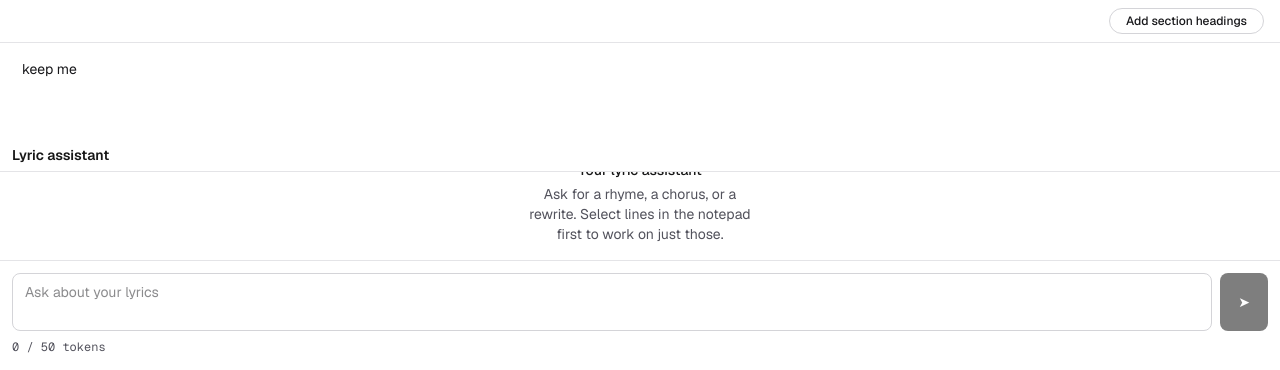
Test: lyric chat › keeps the typed message and leaves conversation and lyrics alone when a request fails
This screenshot has width=1280, height=370.
(page scrolled)
Type "help" into the text box named "Message the lyric assistant" at (612, 302), box [12, 273, 1212, 331]
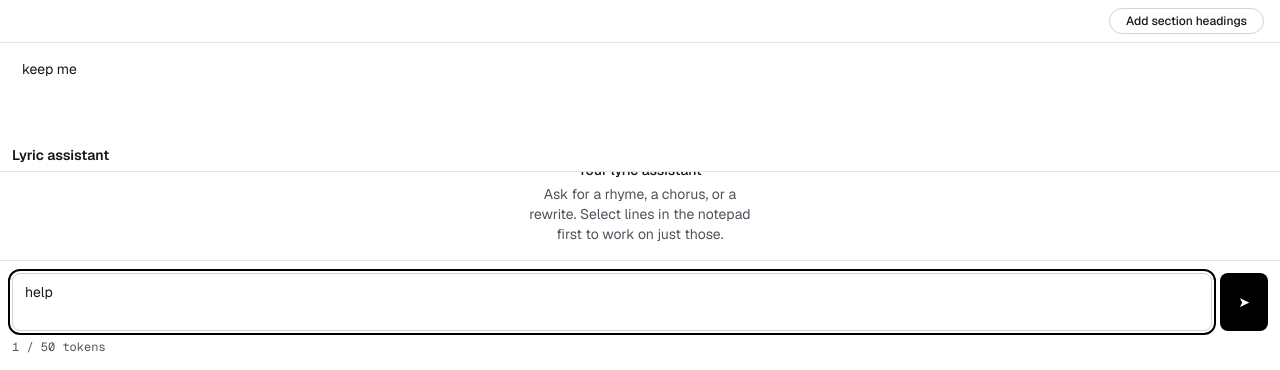
Click the button named "Send message" at (1244, 302), box [1220, 273, 1268, 331]
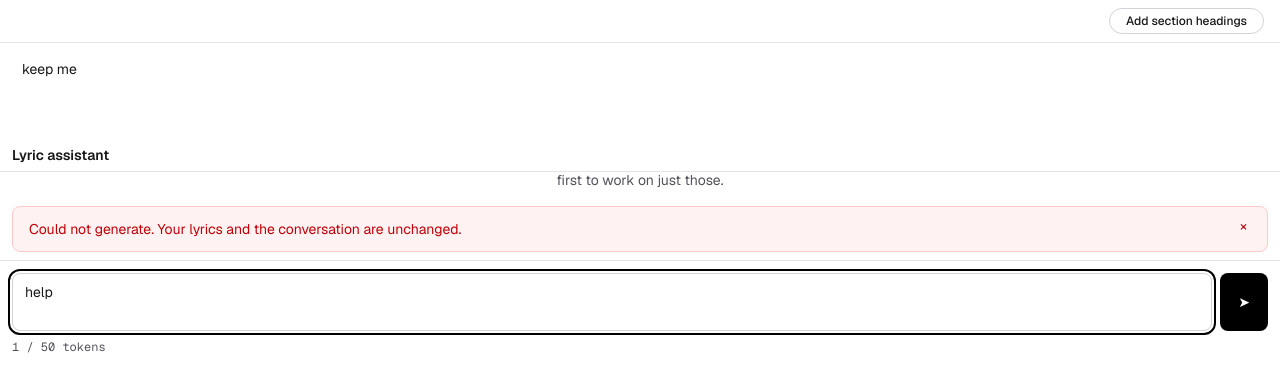
Expected: the text box labelled "keep me" is shown, [22, 60, 77, 78]
Expected: the message shows "unchanged", [29, 220, 461, 238]
